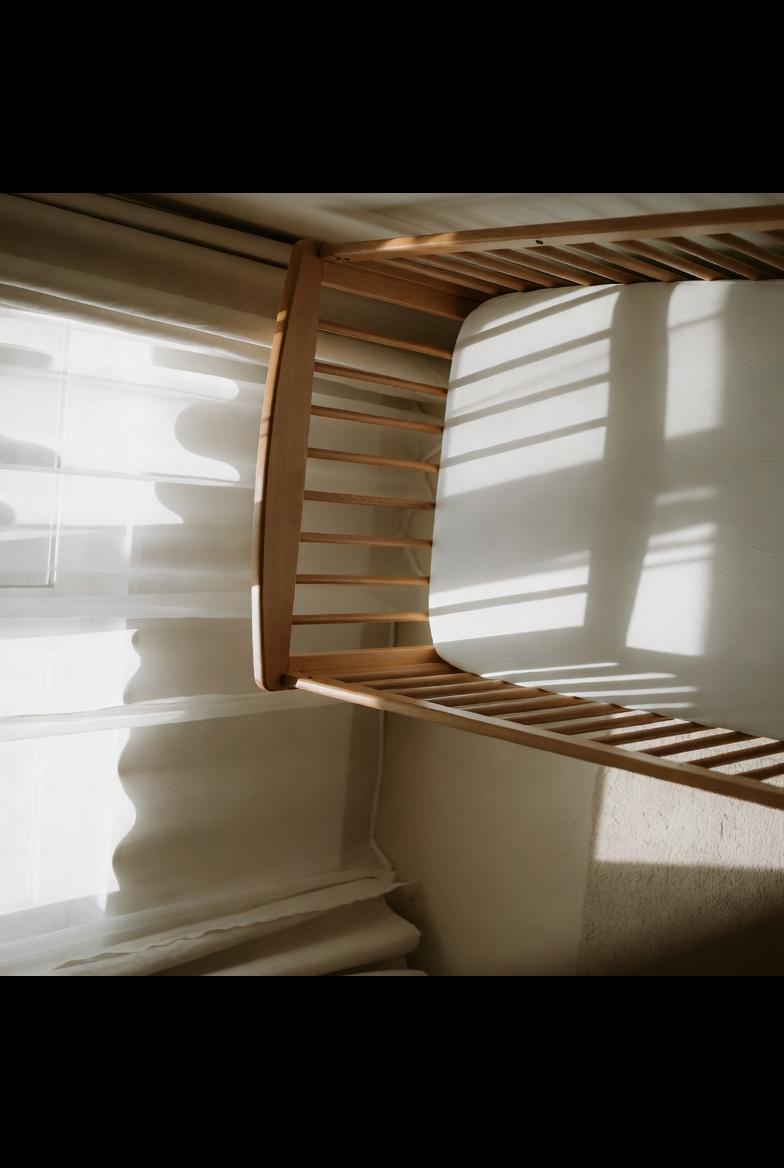crib: (254, 192, 784, 843)
